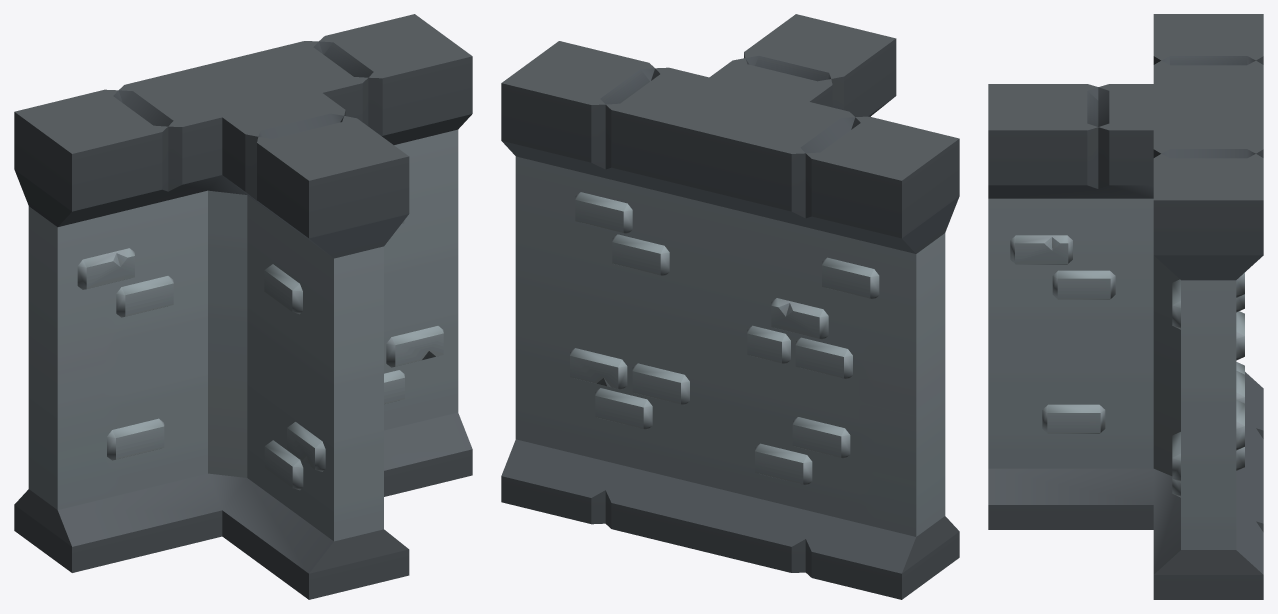
The model's file is wall_Tsplit.glb.
The picture shows the model from 3 angles, left to right: view 1: azimuth 30°, elevation 25°; view 2: azimuth 150°, elevation 25°; view 3: azimuth 270°, elevation 25°; orthographic projection. The views are drawn at different scales.
Parts seen in each view (by area): view 1: wall_Tsplit; view 2: wall_Tsplit; view 3: wall_Tsplit.
Boxes of the visible parts, x1,y1,x2,y2 form: wall_Tsplit: [14, 14, 472, 599]; wall_Tsplit: [501, 14, 959, 599]; wall_Tsplit: [988, 14, 1263, 599].
Bounding box in the file's own units: 4 × 4 × 2.5.
Materials: 1 (1 with a texture image).
